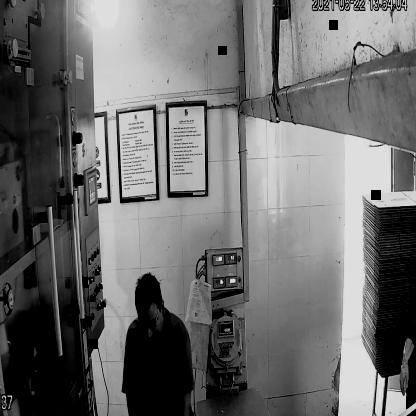goggles: (136, 312, 162, 338)
